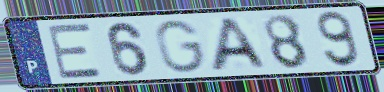6: (105, 19, 150, 77)
8: (262, 13, 310, 71)
9: (315, 8, 363, 70)
A: (208, 16, 272, 73)
E: (45, 21, 106, 81)
G: (153, 18, 209, 75)
